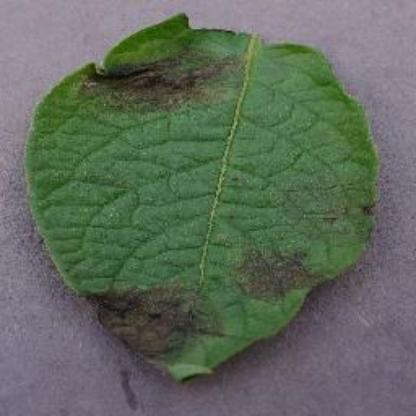Late-Blight: (28, 13, 378, 389)
